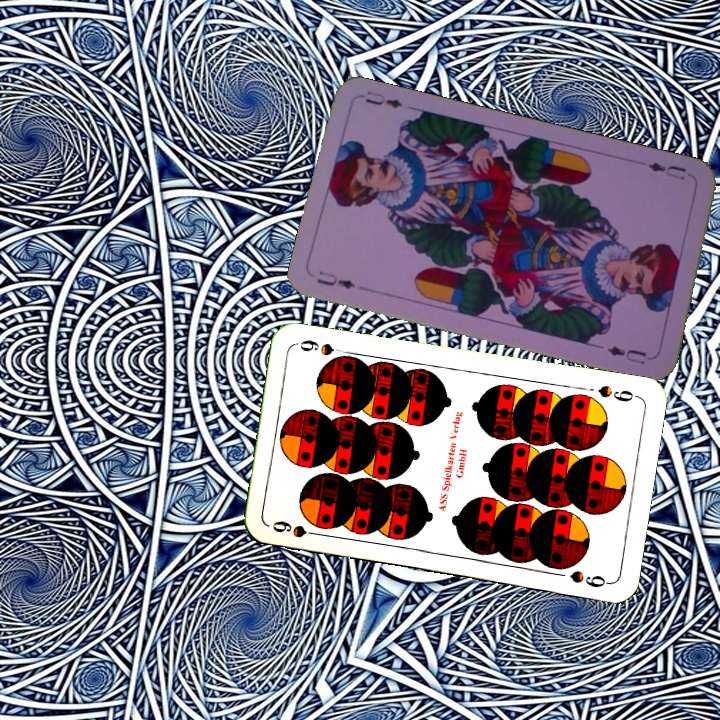EU: (313, 266, 358, 292), (644, 158, 689, 182)
S9: (268, 516, 326, 541), (594, 381, 641, 405)
